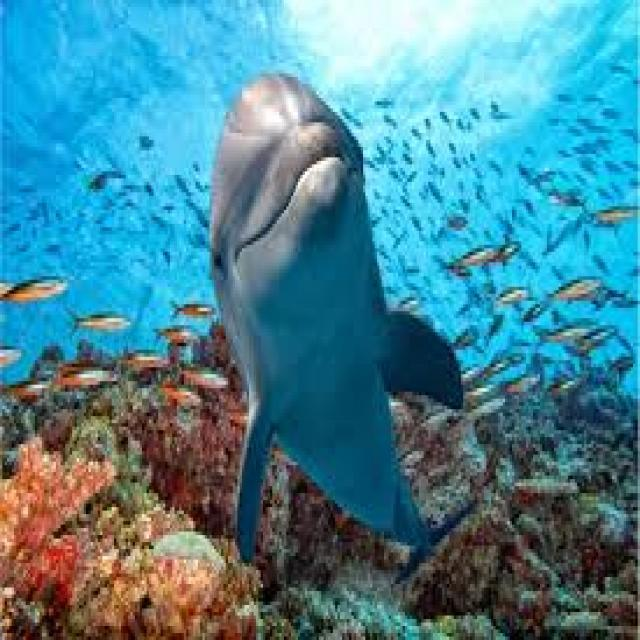dolphin: (191, 52, 477, 584)
